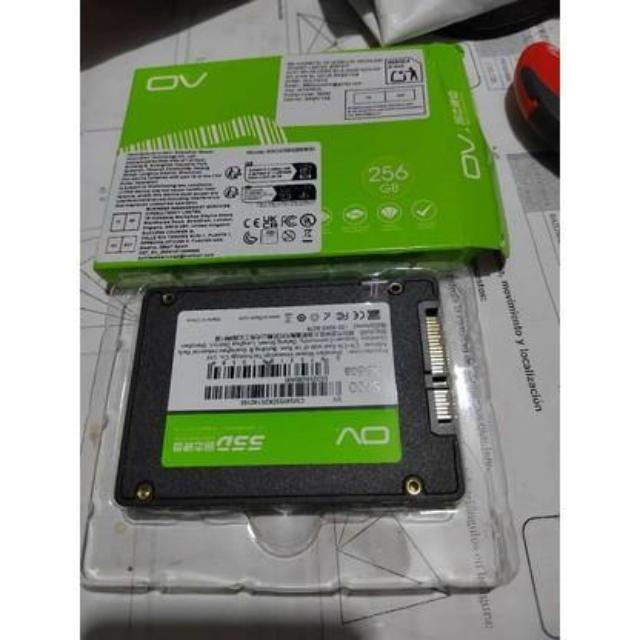DISK: (128, 282, 474, 514)
